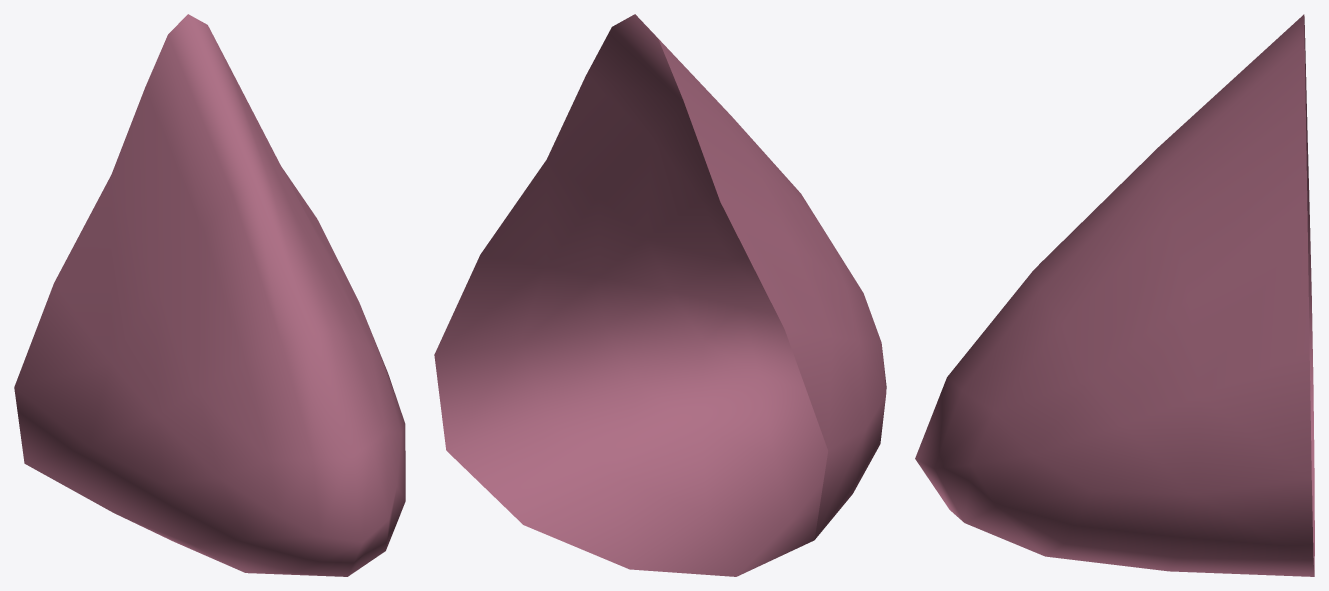
File: nose5.fbx
The picture shows the model from 3 angles, left to right: view 1: azimuth 30°, elevation 25°; view 2: azimuth 150°, elevation 25°; view 3: azimuth 270°, elevation 25°; orthographic projection. The views are drawn at different scales.
Visible parts, largest first — view 1: nose5; view 2: nose5; view 3: nose5.
Part boxes in pixels (<box>): nose5: <box>14,14,405,576</box>; nose5: <box>434,14,886,576</box>; nose5: <box>915,14,1314,576</box>.
Bounding box in the file's own units: 5.63 × 7.54 × 5.14.
